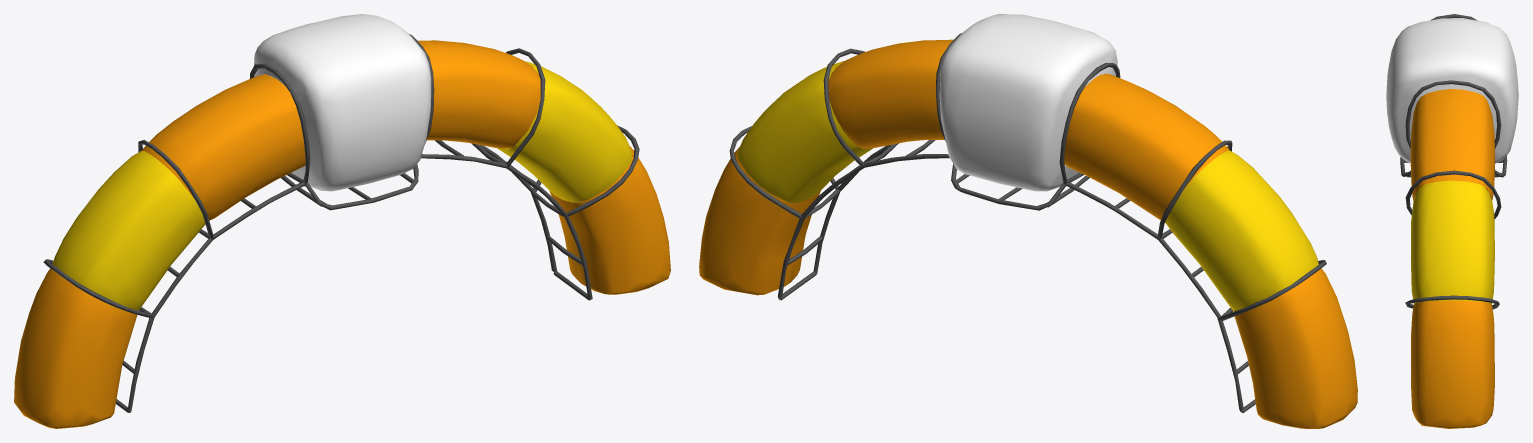
The model's file is Start_2.fbx.
The picture shows the model from 3 angles, left to right: view 1: azimuth 30°, elevation 25°; view 2: azimuth 150°, elevation 25°; view 3: azimuth 270°, elevation 25°; orthographic projection. The views are drawn at different scales.
Parts seen in each view (by area): view 1: Start_2; view 2: Start_2; view 3: Start_2.
Part boxes in pixels (x1,y1,x2,y2): Start_2: (14, 14, 670, 428); Start_2: (699, 14, 1357, 428); Start_2: (1386, 14, 1518, 428).
Bounding box in the file's own units: 6009 × 2816 × 1272.
